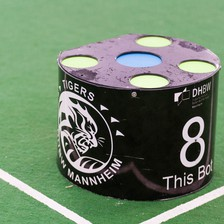robot: (54, 30, 224, 202)
